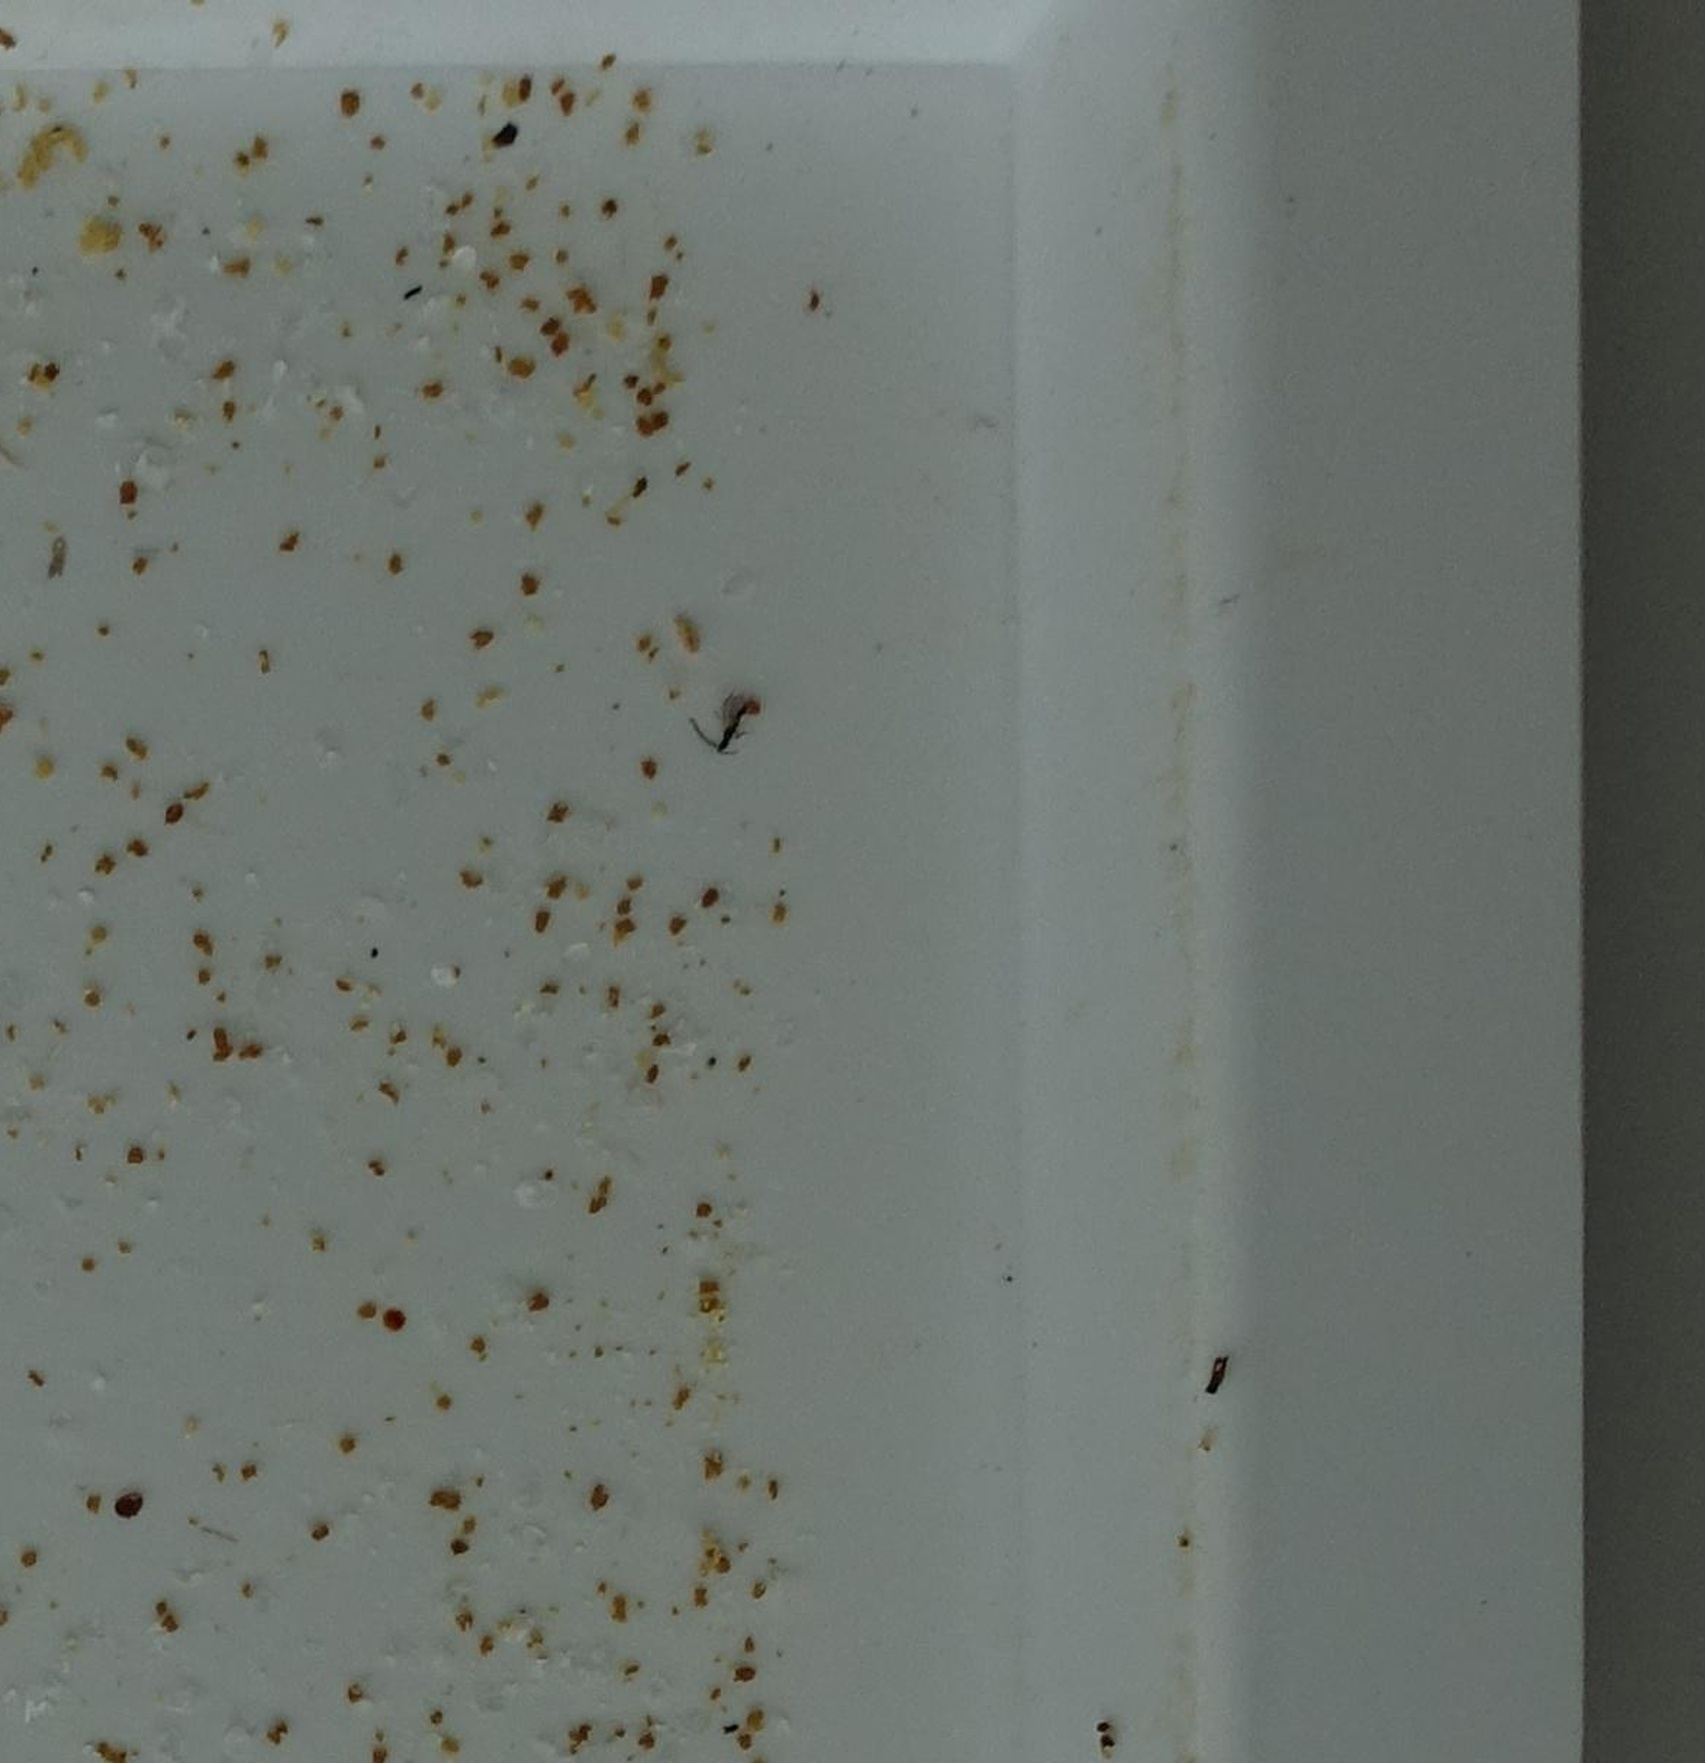Varroa: (113, 1492, 139, 1517)
